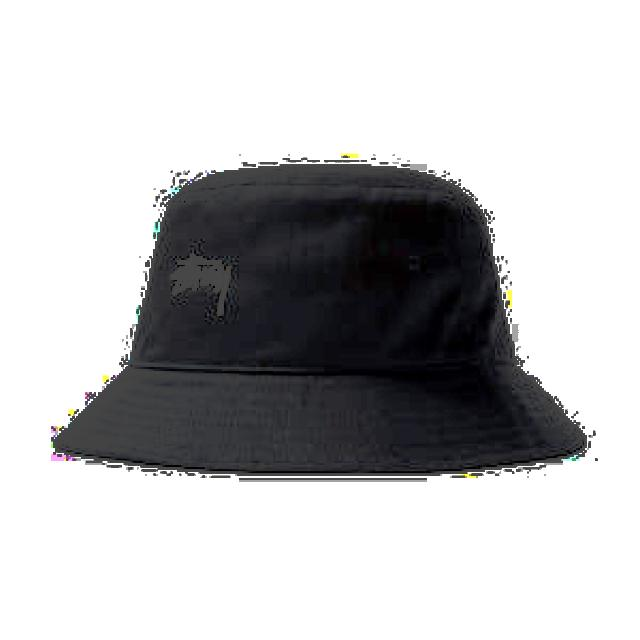TOPI: (43, 154, 595, 480)
